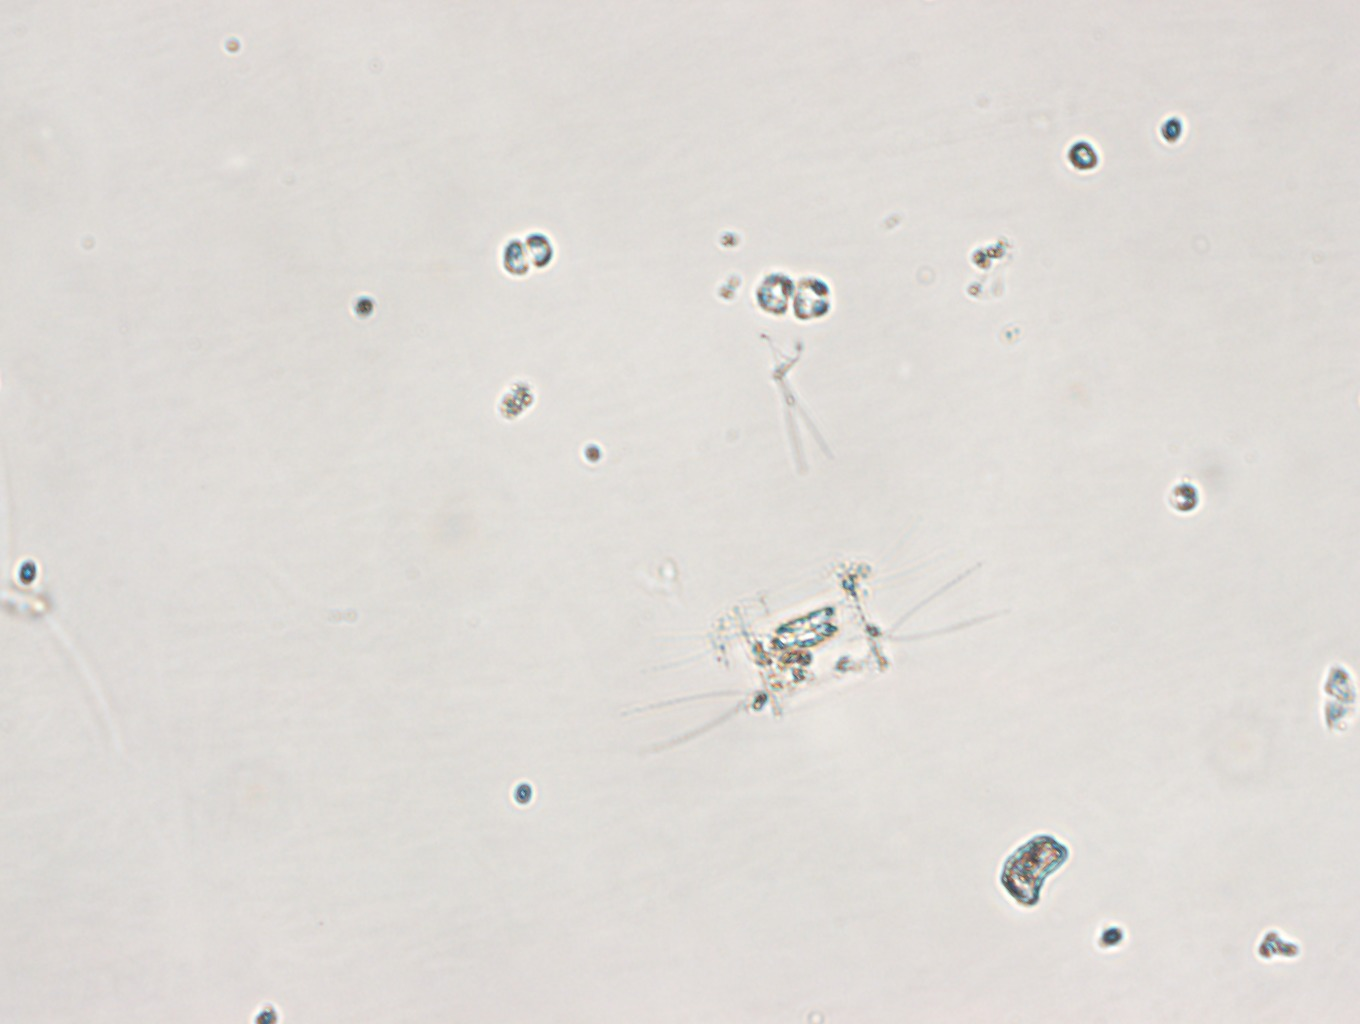chaetoceros: (626, 555, 1006, 767)
